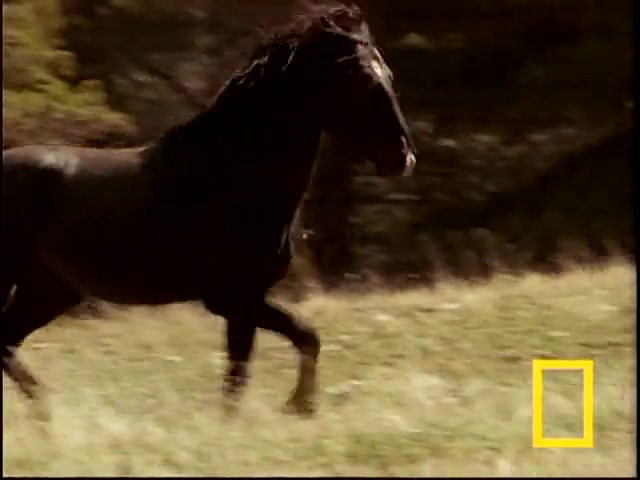horse: (1, 7, 421, 421)
